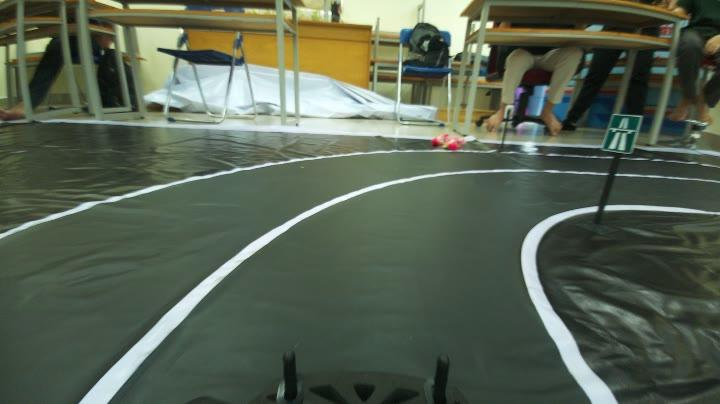highway_entry: (601, 104, 643, 156)
